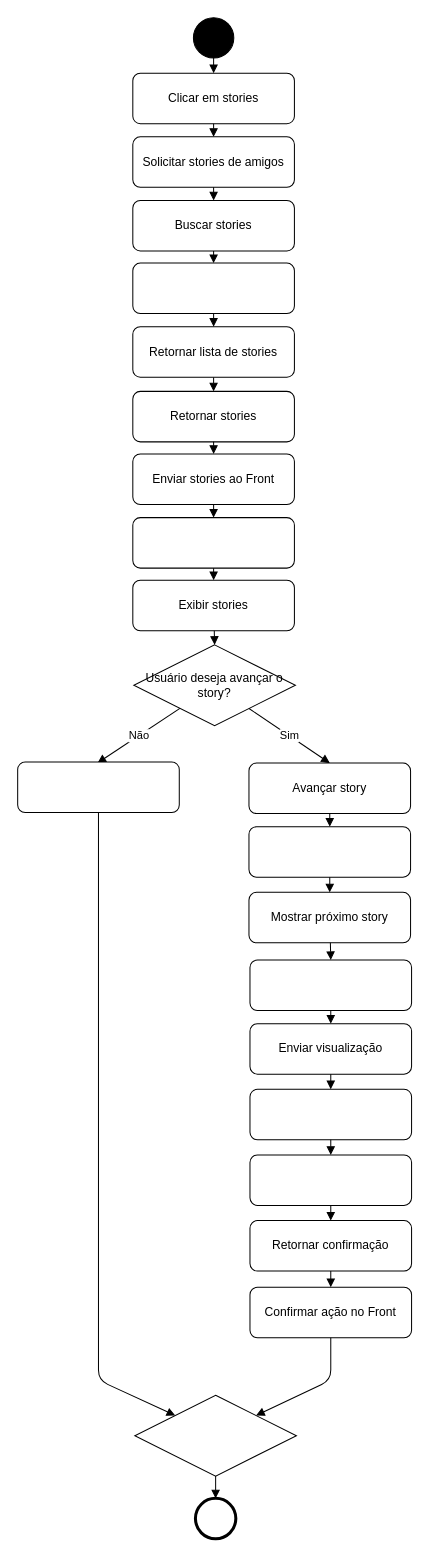
Some shapes in this 429 by 1557 pixel diagram are drawn without their labels. The shapes that lost their labels are listed below. From the top down, each one's centre as x and y in pixels, then its label:
At point (213, 288): "Buscar stories dos amigos".
At point (213, 542): "Renderizar stories".
At point (98, 787): "(permanece no story atual)".
At point (329, 851): "Atualizar exibição".
At point (330, 985): "Registrar visualização".
At point (330, 1114): "Salvar visualização".
At point (330, 1179): "Confirmar visualização".
